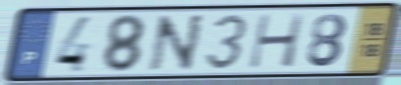3: (200, 12, 251, 72)
4: (49, 14, 95, 75)
8: (99, 11, 148, 76), (306, 12, 349, 69)
H: (246, 12, 308, 71)
N: (146, 12, 208, 73)
